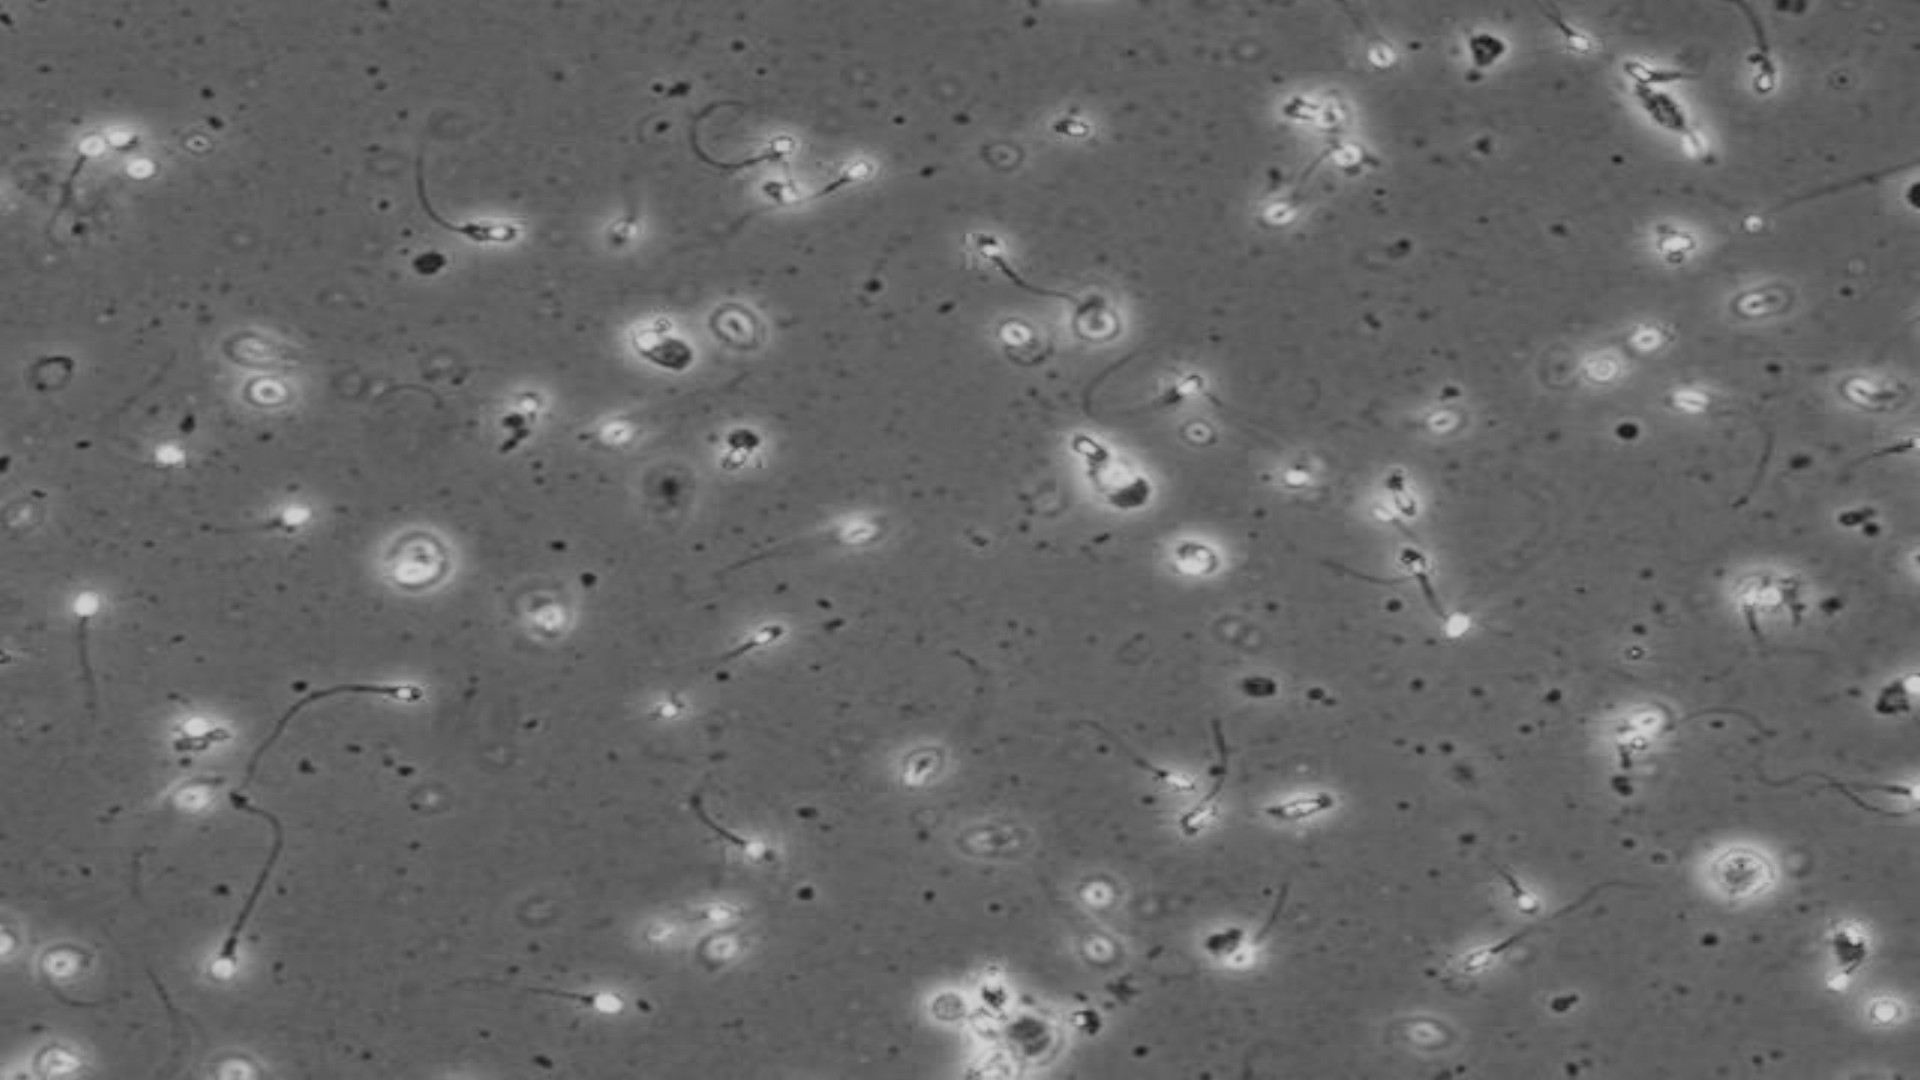sperm: (243, 667, 454, 782), (1060, 349, 1215, 423), (196, 824, 265, 989), (396, 157, 525, 243), (960, 218, 1077, 310), (640, 107, 803, 173), (1729, 178, 1850, 255), (493, 963, 632, 1027), (1079, 723, 1195, 799), (682, 777, 771, 858), (754, 160, 882, 214), (190, 504, 322, 554), (1443, 906, 1534, 978), (44, 135, 105, 233), (1725, 9, 1789, 98), (61, 584, 104, 711), (589, 154, 640, 261), (703, 621, 785, 684), (1400, 541, 1452, 636), (1531, 3, 1607, 59), (1468, 860, 1542, 918), (1629, 69, 1709, 88)
